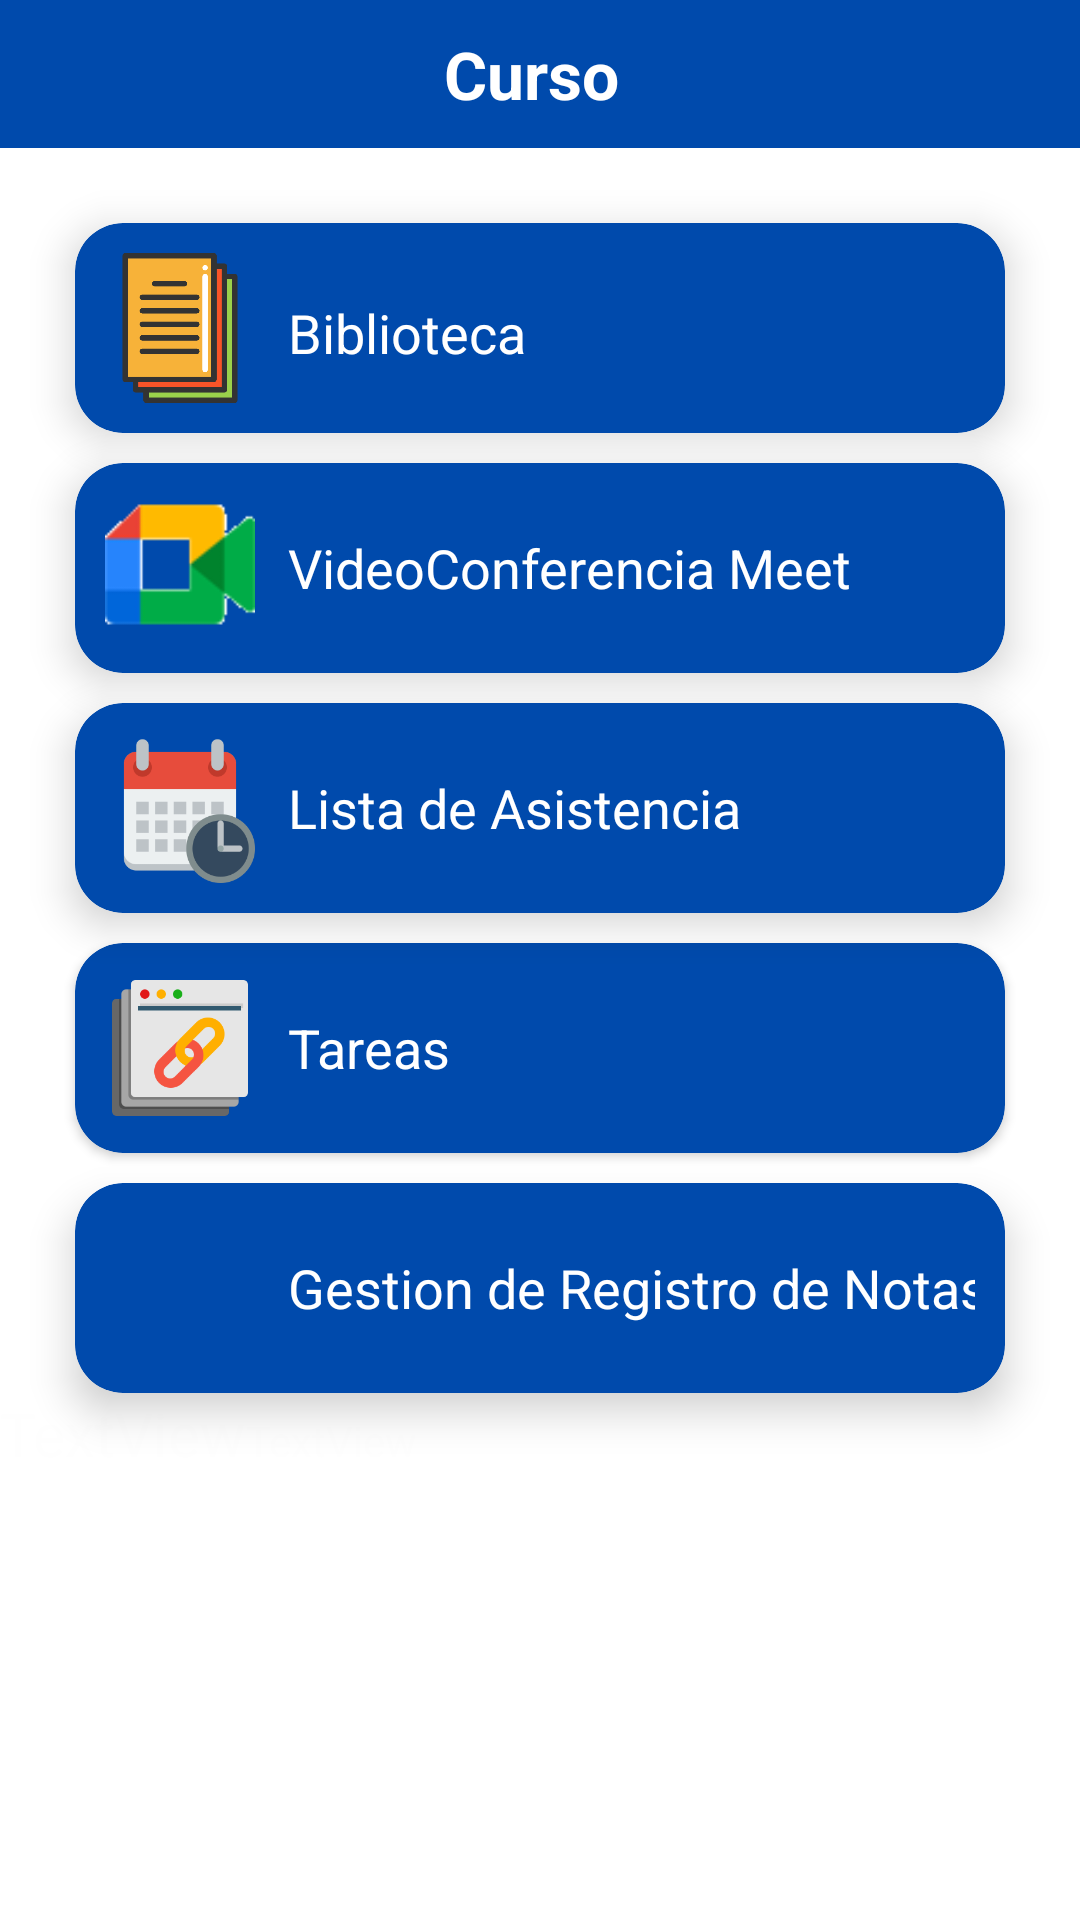

Icons on this 1080*1920 Android screen, each with the point to tap as (x,y):
documentos: (180,328)
links: (180,1048)
